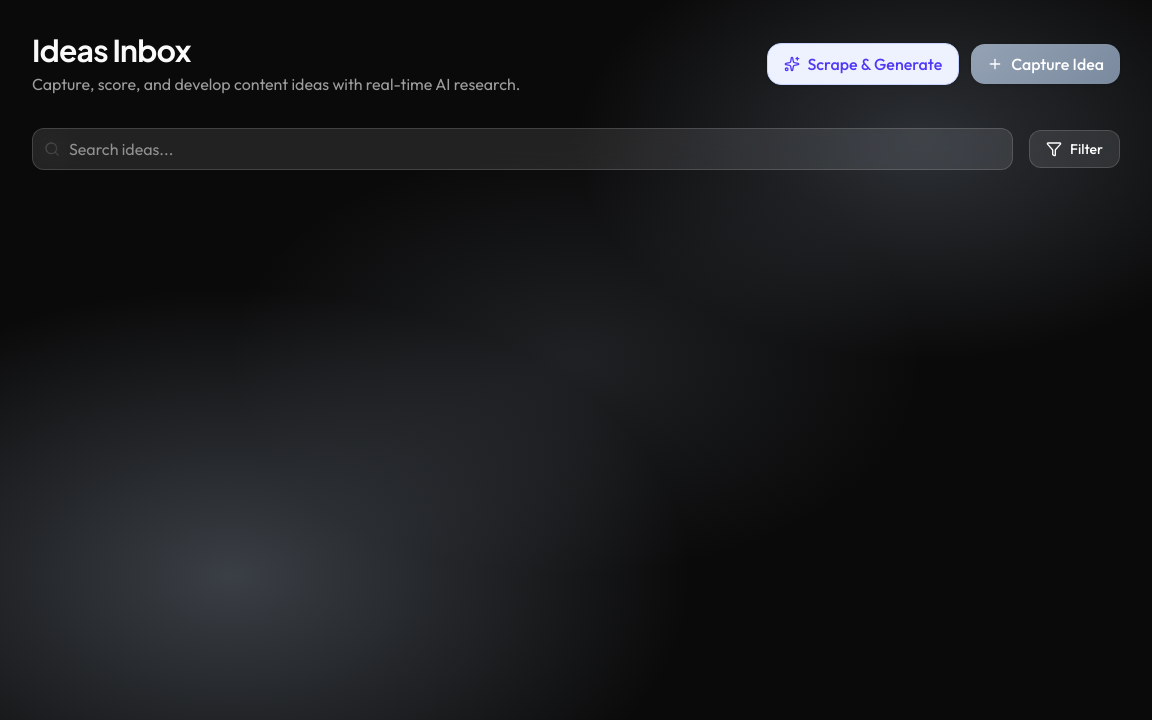
Test: UI Pages and Components › renders Ideas inbox and adds a new idea
Expected: the heading "Ideas Inbox" is shown, [32,31,191,69]
Click the button "Capture Idea" at coordinates (1046, 64), box [971,44,1120,84]
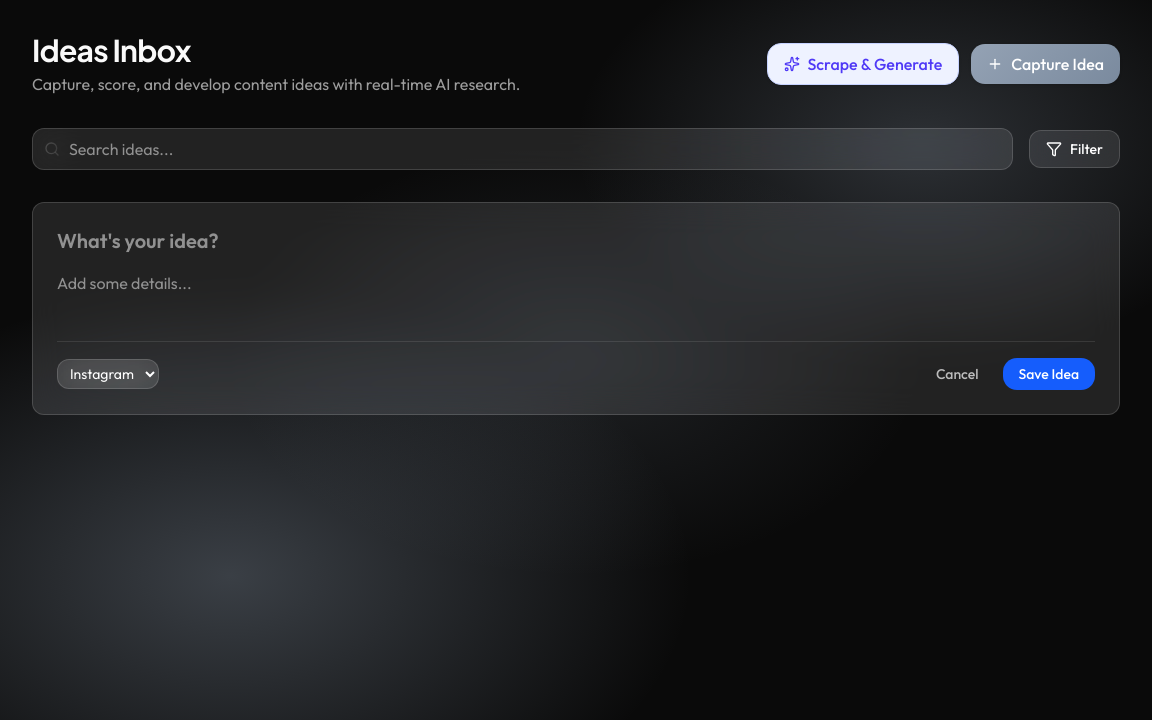
Type "New Test Viral Hook Idea" into the field with placeholder "What's your idea?" at coordinates (576, 241), box [57,227,1095,255]
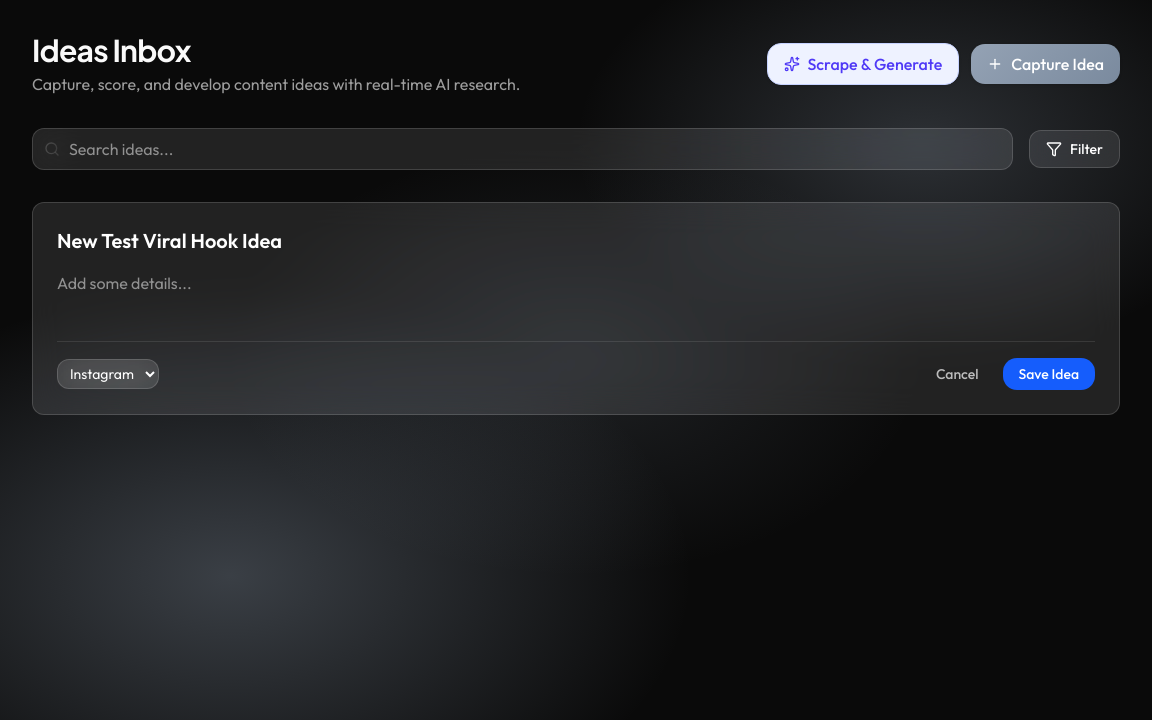
Click the button "Save Idea" at coordinates (1049, 374), box [1002,358,1095,390]
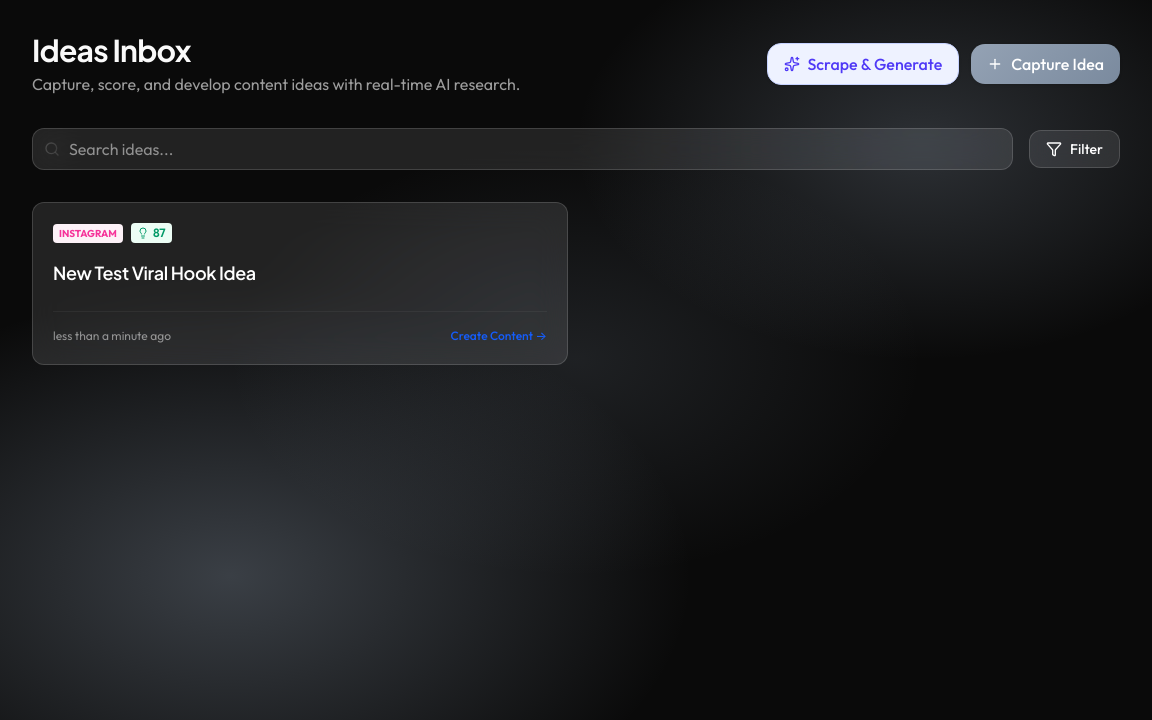
Expected: the heading "New Test Viral Hook Idea" is shown, [53,261,256,284]
